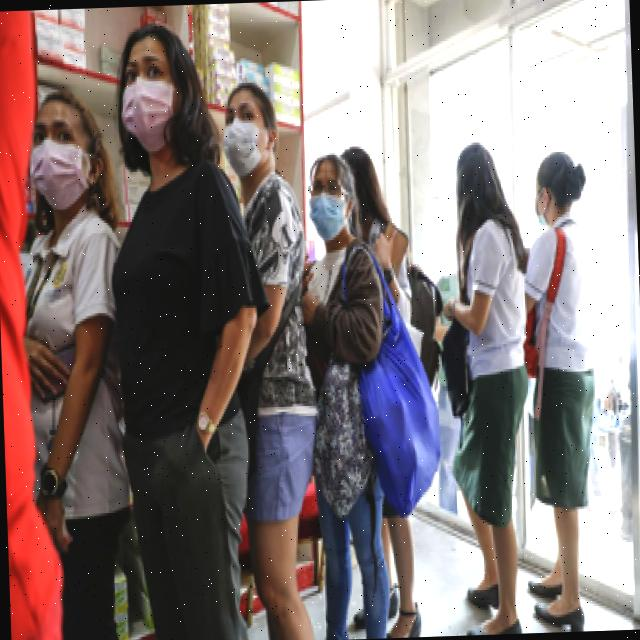Mask: (30, 138, 90, 212), (118, 78, 180, 149), (220, 120, 274, 176), (302, 190, 350, 236)
